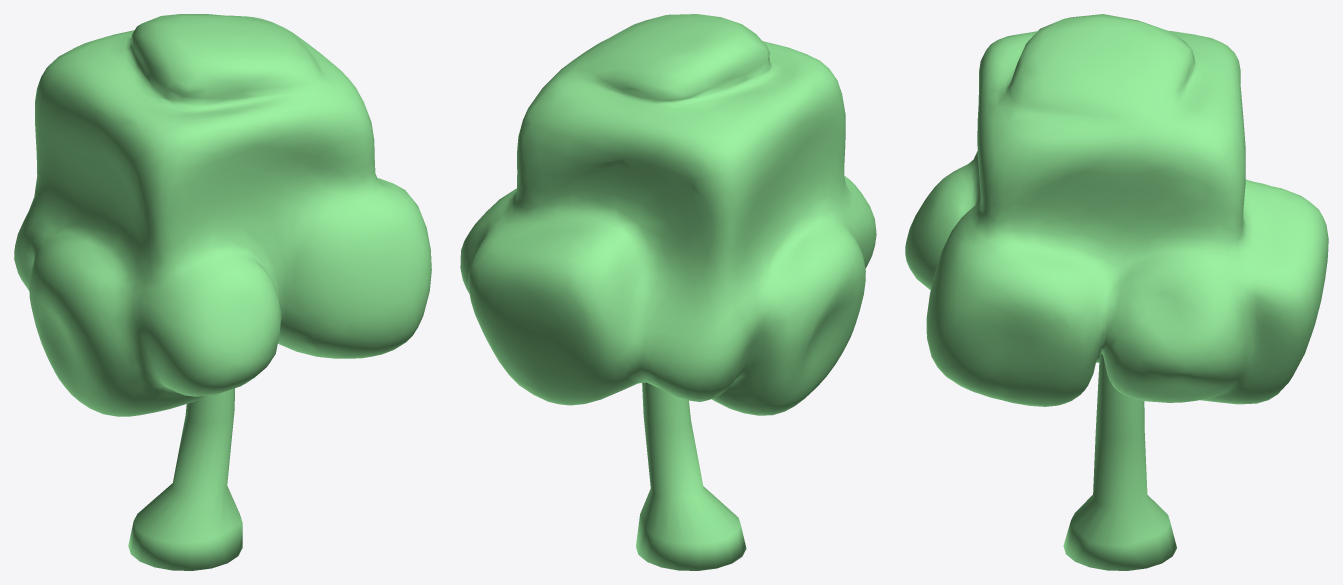
Rendered from Tree2.fbx.
3 views of the same model, side by side, from view 1: azimuth 30°, elevation 25°; view 2: azimuth 150°, elevation 25°; view 3: azimuth 270°, elevation 25° (orthographic). The views are drawn at different scales.
Visible parts, largest first — view 1: Tree2; view 2: Tree2; view 3: Tree2.
Part boxes in pixels (bbox=[...]): Tree2: bbox=[14, 14, 431, 570]; Tree2: bbox=[460, 14, 876, 570]; Tree2: bbox=[905, 14, 1328, 570].
Size of the model in its own units: 14.8 by 21.55 by 15.92.
